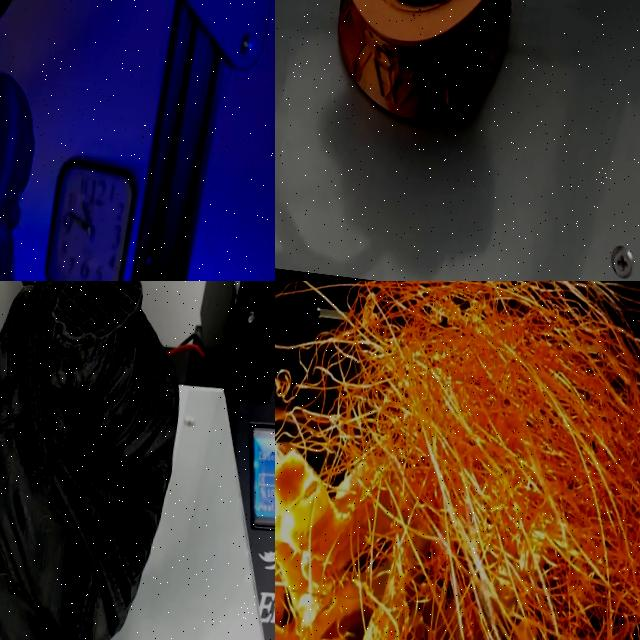spaghetti: (275, 281, 640, 640)
